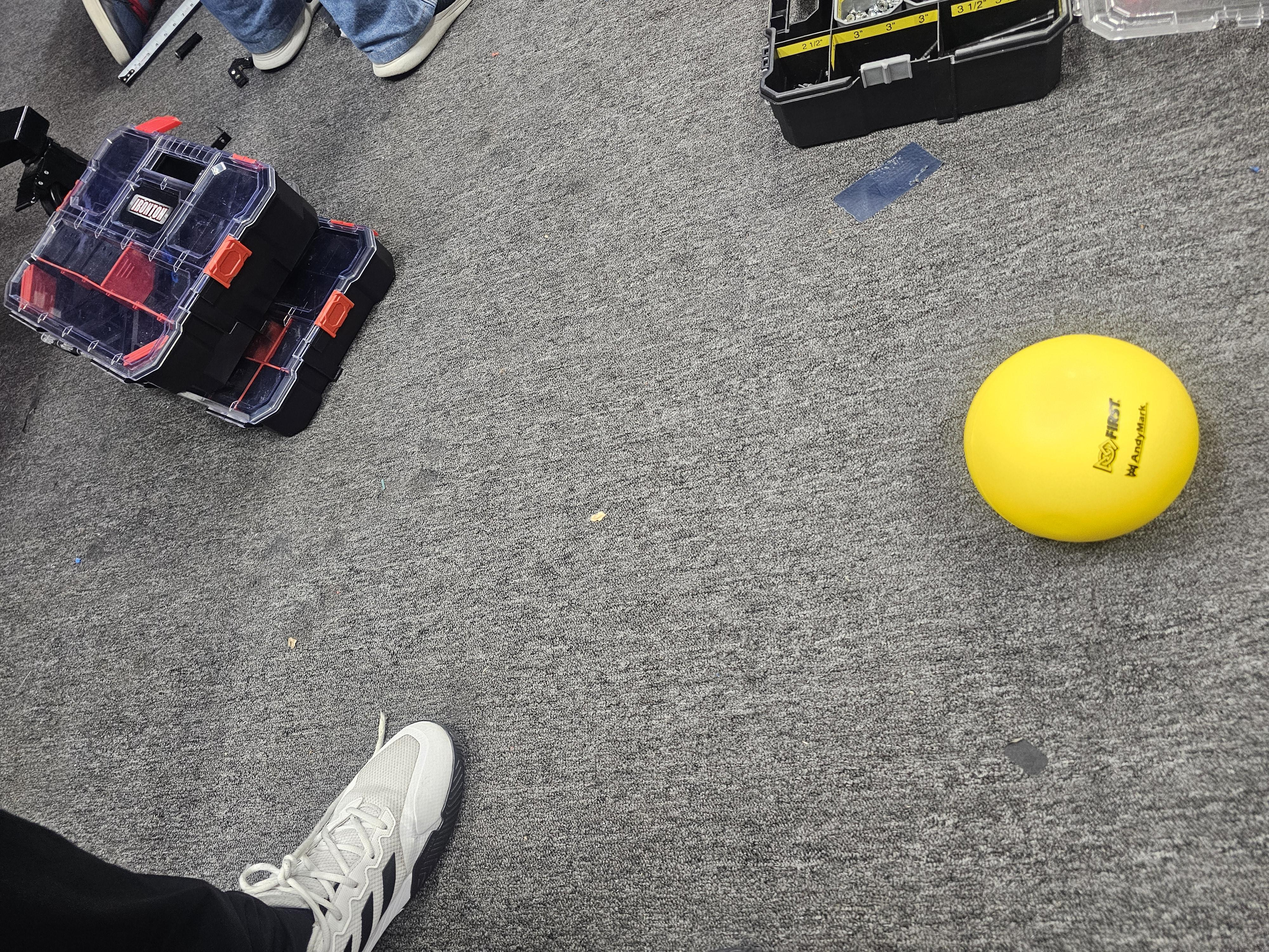fuel: (955, 323, 1214, 553)
